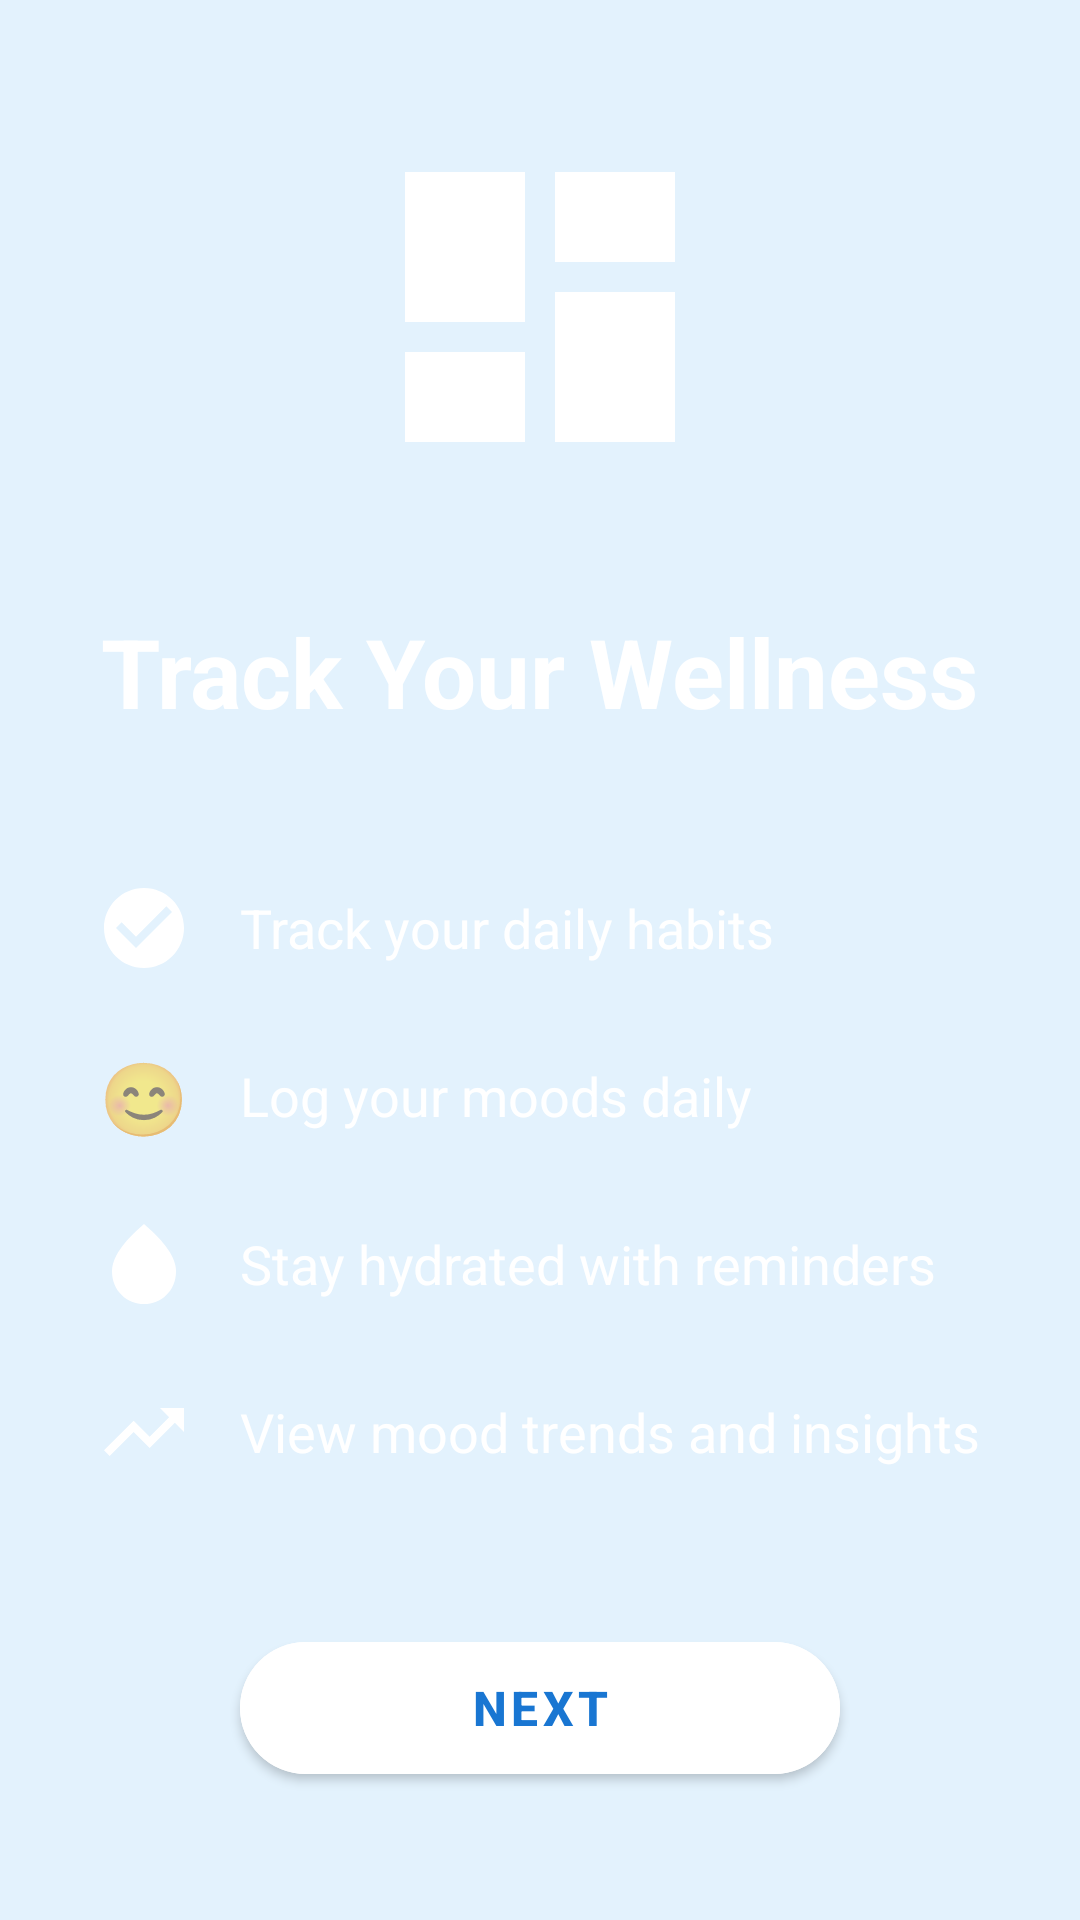

Named icons in this screenshot (1080px x 1920px) and their centers, [x,y]:
check circle: [144,928]
trending up: [144,1431]
water drop: [144,1264]
